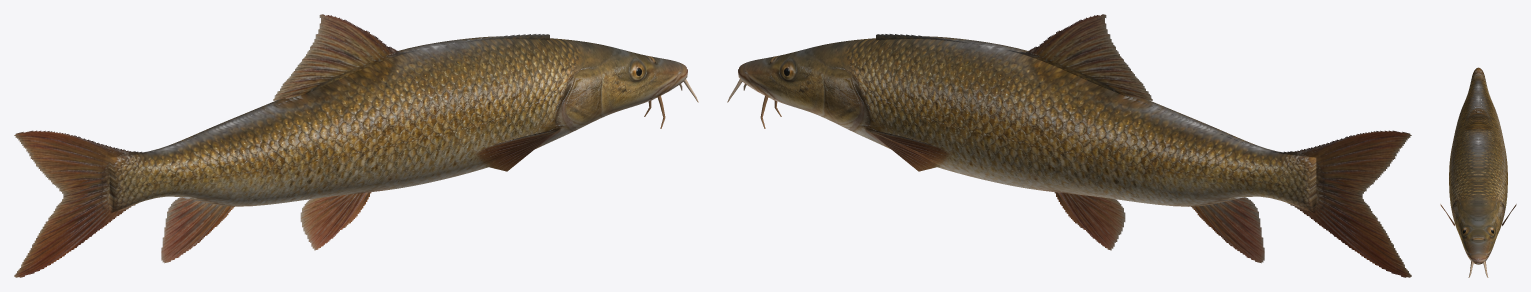
The model's file is barbel.glb.
The picture shows the model from 3 angles, left to right: view 1: azimuth 30°, elevation 25°; view 2: azimuth 150°, elevation 25°; view 3: azimuth 270°, elevation 25°; orthographic projection. The views are drawn at different scales.
Visible parts, largest first — view 1: barbel_realistic.003; view 2: barbel_realistic.003; view 3: barbel_realistic.003.
Part boxes in pixels (box(x1,y1,x2,y2)): barbel_realistic.003: box(14, 14, 698, 277); barbel_realistic.003: box(727, 14, 1411, 277); barbel_realistic.003: box(1440, 67, 1516, 277).
Size of the model in its own units: 1 by 0.3309 by 0.1684.
Materials: 3 (3 with a texture image).
